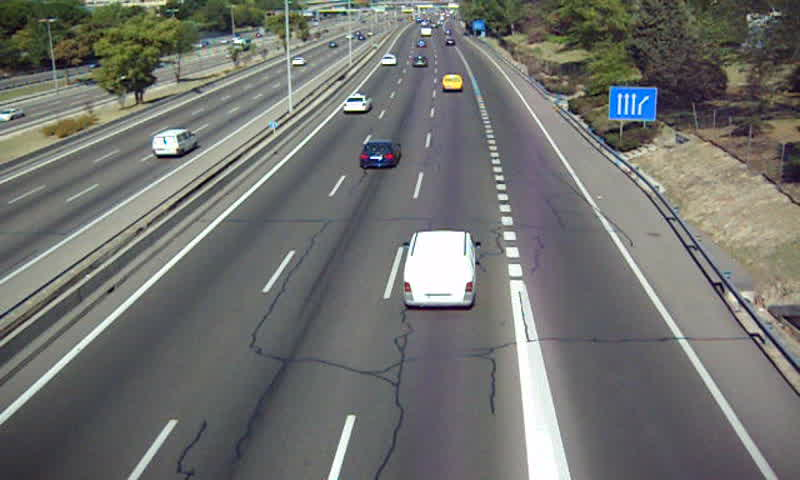car: (358, 141, 400, 168), (341, 95, 371, 114), (412, 54, 428, 69), (380, 53, 396, 66)
van: (403, 231, 477, 308), (442, 74, 464, 93)
